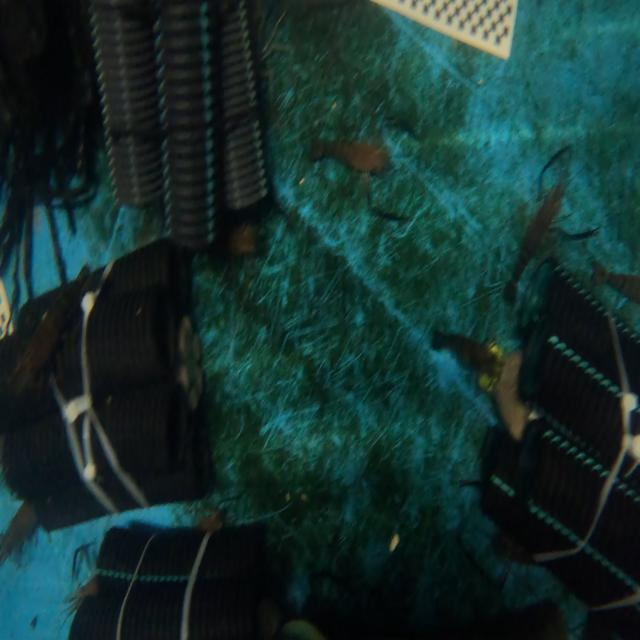prawn: (511, 182, 563, 289), (311, 141, 388, 173)
